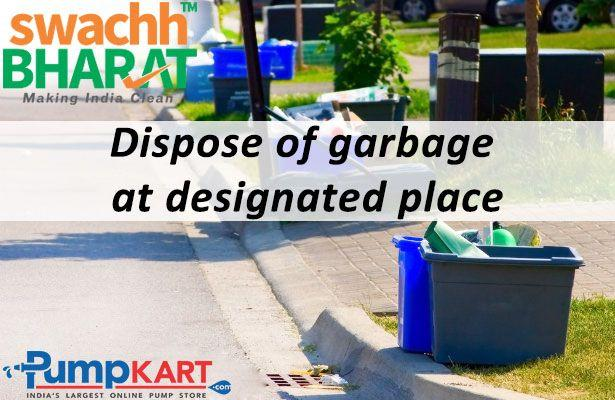garbage bin: (392, 235, 432, 353)
pavement: (281, 222, 428, 312), (532, 221, 615, 297)
road: (0, 222, 350, 399)
